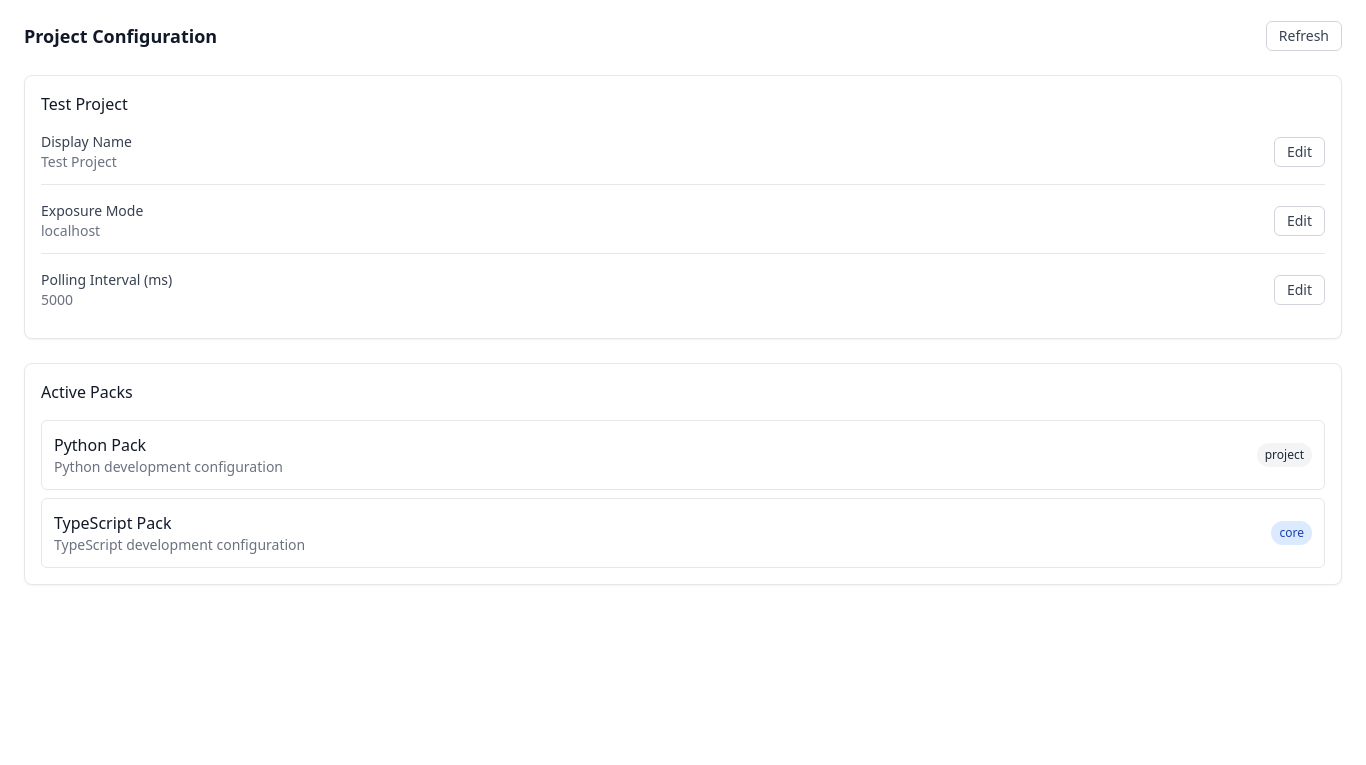
Test: ConfigPanel › Pack Detail View › shows pack detail when clicking a pack
Click the text "Python Pack". click: point(100, 445)
box: [54,434,146,456]
(page scrolled)
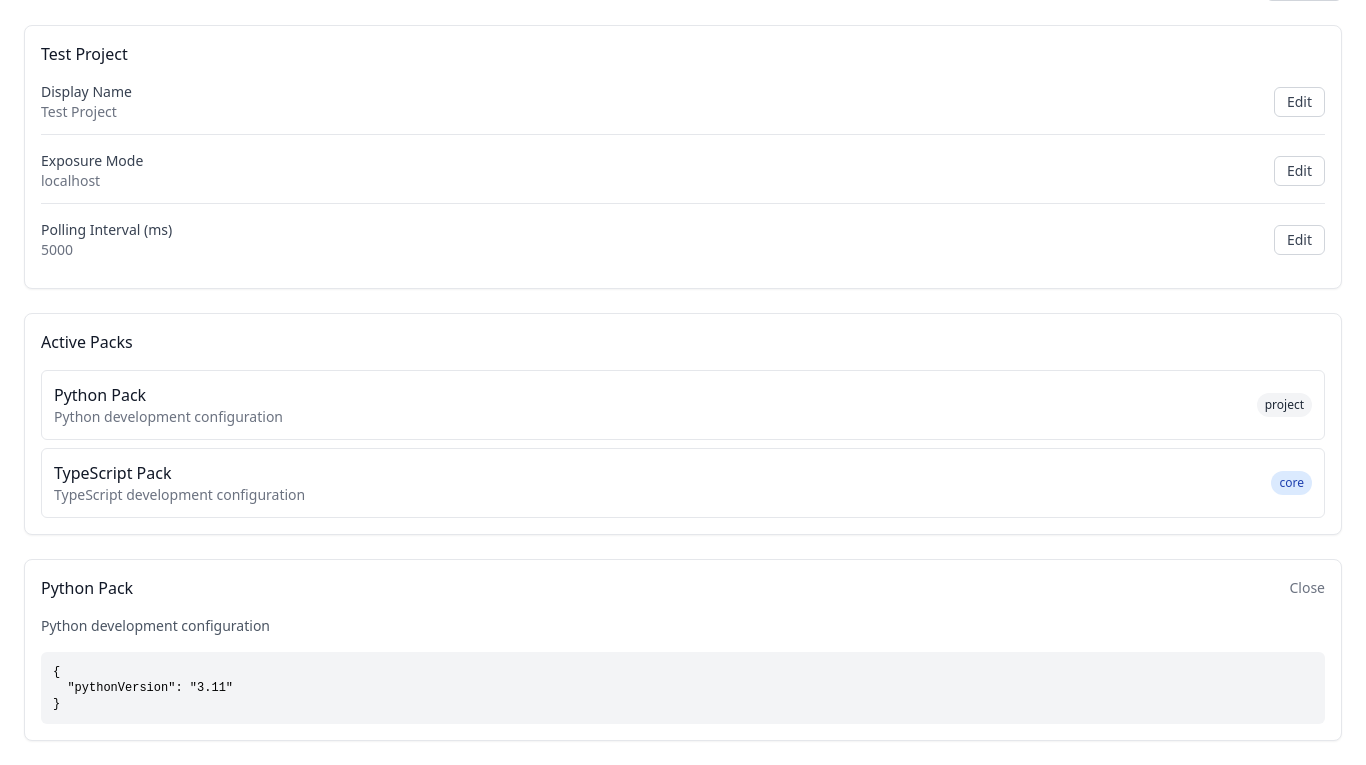
Now the text "{ \"pythonVersion\": \"3.11\" }" is shown, box [41,652,1325,724]
